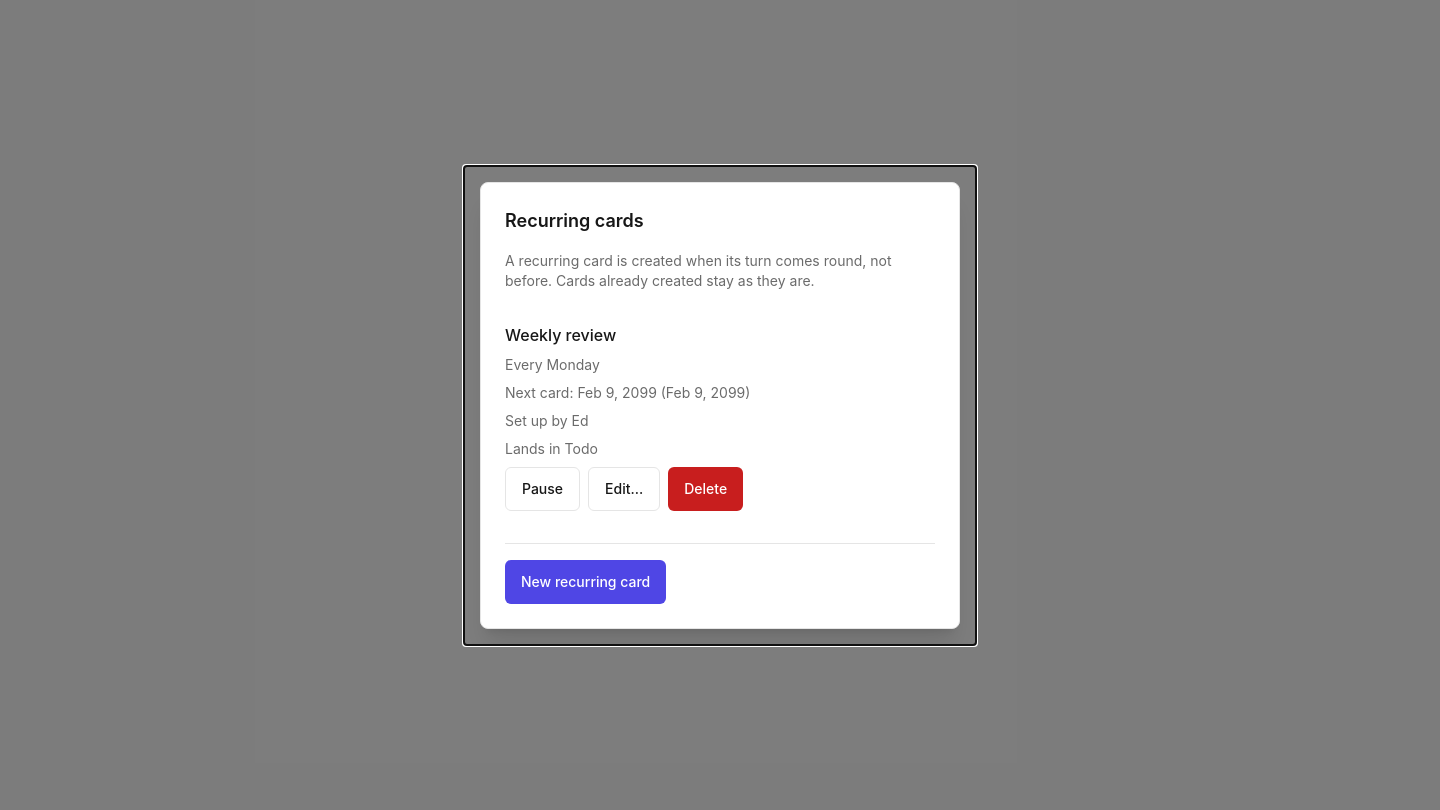
TaskSeriesModal › spells out what delete does before doing it
Click the button with aria-label "Delete Weekly review" at (706, 488), box x1=668 y1=466 x2=743 y2=510
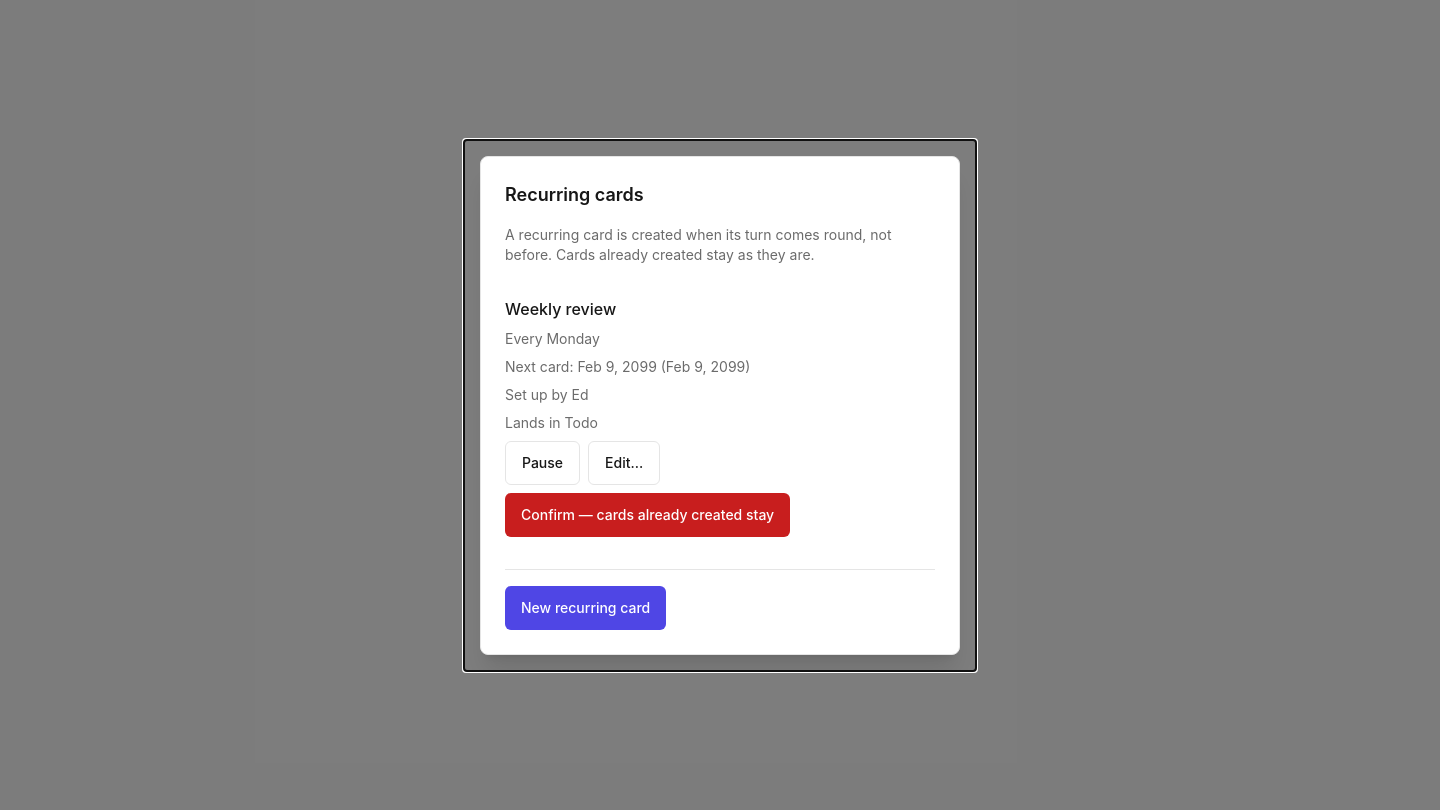
Check: the button with aria-label "Confirm delete of Weekly review" reads "Confirm — cards already created stay"
Click the button with aria-label "Confirm delete of Weekly review" at (648, 514), box x1=505 y1=492 x2=790 y2=536
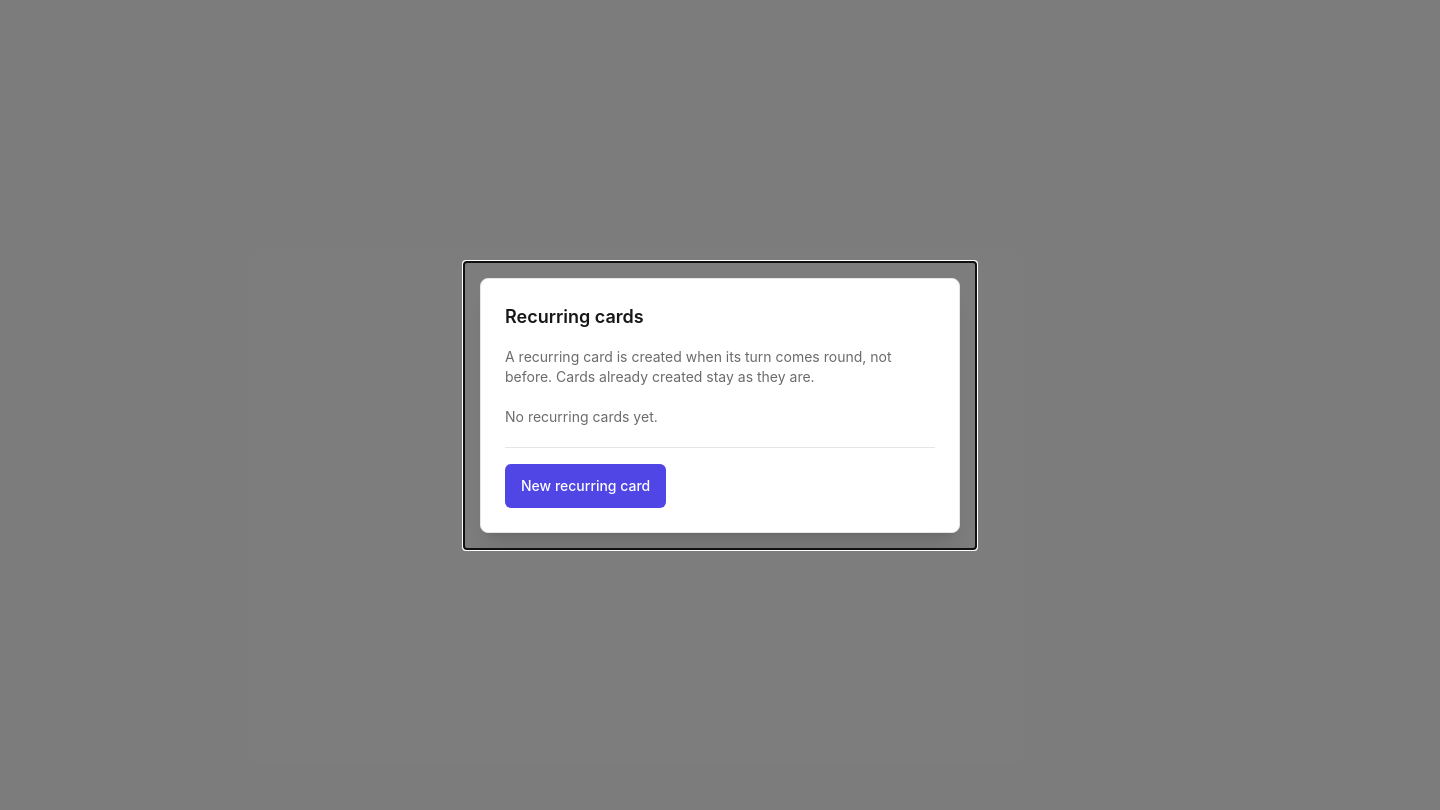
Check: the text "Weekly review" is gone
